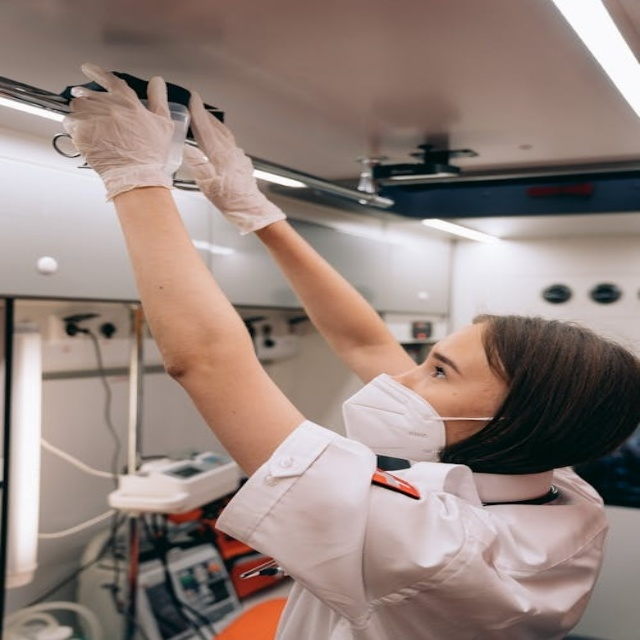Guantes: (60, 63, 183, 201), (179, 87, 287, 234)
Mascara: (341, 371, 456, 463)
Sin_gafas: (406, 350, 466, 382)
